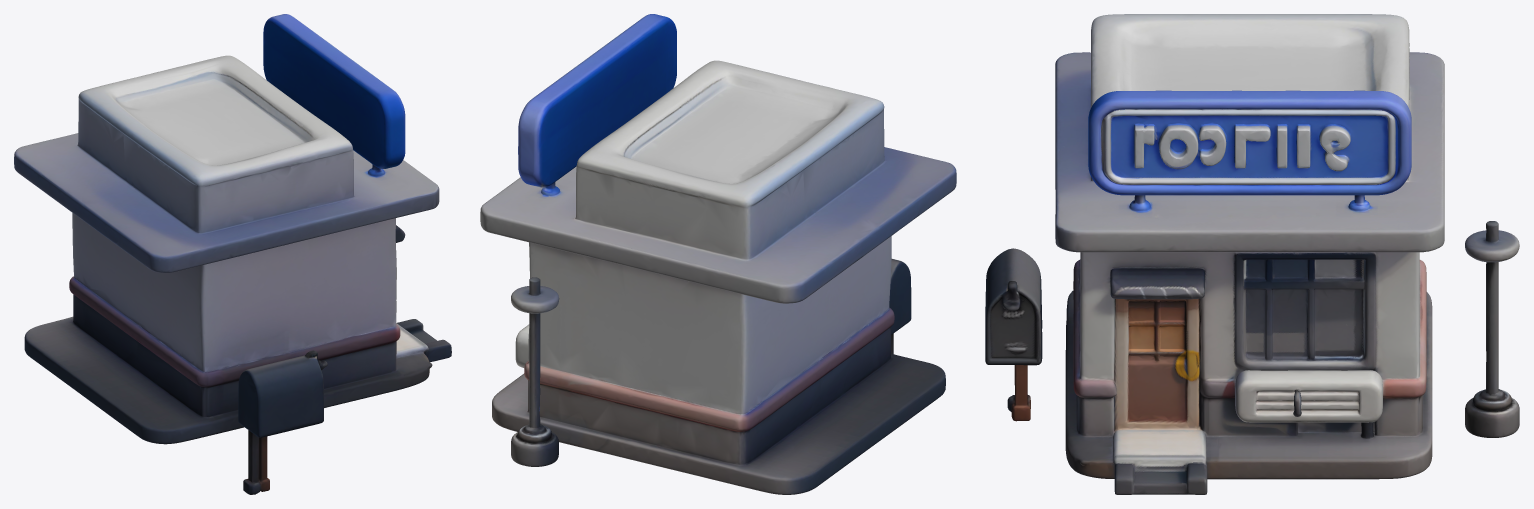
The model's file is building-post-office.glb.
The picture shows the model from 3 angles, left to right: view 1: azimuth 30°, elevation 25°; view 2: azimuth 150°, elevation 25°; view 3: azimuth 270°, elevation 25°; orthographic projection. The views are drawn at different scales.
Visible parts, largest first — view 1: tripo_node_b82024e0-201f-49fe-a45a-76ed642c44b5; view 2: tripo_node_b82024e0-201f-49fe-a45a-76ed642c44b5; view 3: tripo_node_b82024e0-201f-49fe-a45a-76ed642c44b5.
Boxes of the visible parts, x1=… form: tripo_node_b82024e0-201f-49fe-a45a-76ed642c44b5: x1=14, y1=14, x2=451, y2=494; tripo_node_b82024e0-201f-49fe-a45a-76ed642c44b5: x1=480, y1=14, x2=956, y2=494; tripo_node_b82024e0-201f-49fe-a45a-76ed642c44b5: x1=985, y1=14, x2=1519, y2=494.
Bounding box in the file's own units: 6.01 × 6 × 6.84.
Materials: 1 (1 with a texture image).
